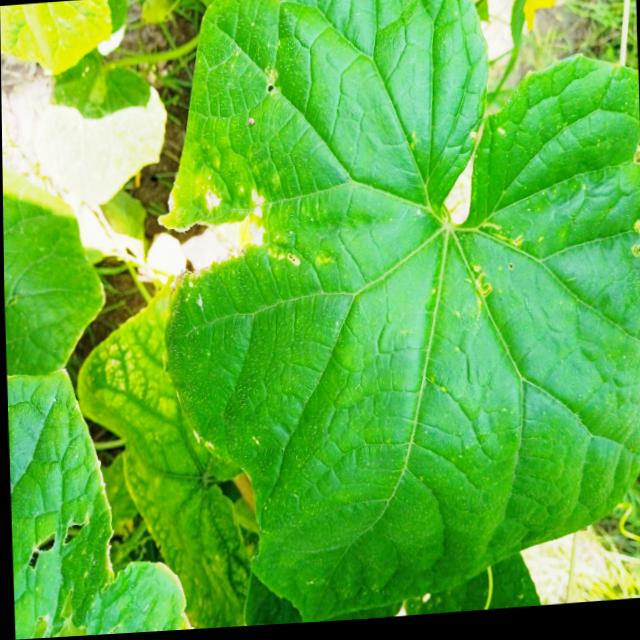Fresh-Leaf: (235, 55, 640, 622)
